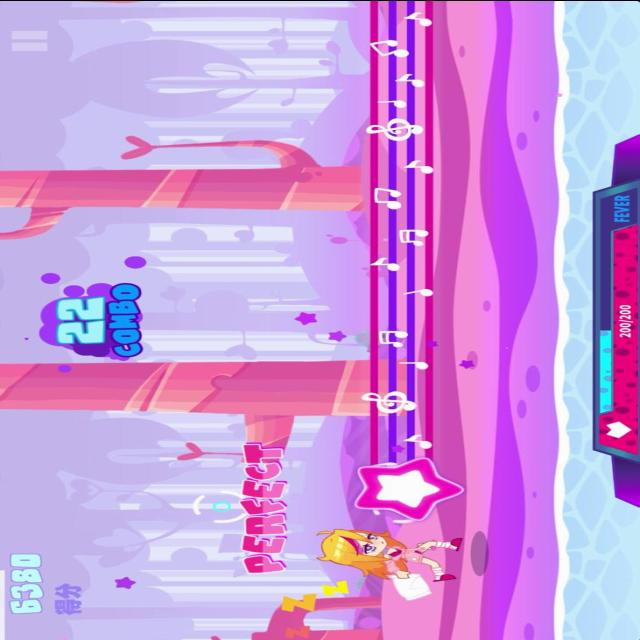hold: (342, 0, 470, 522)
